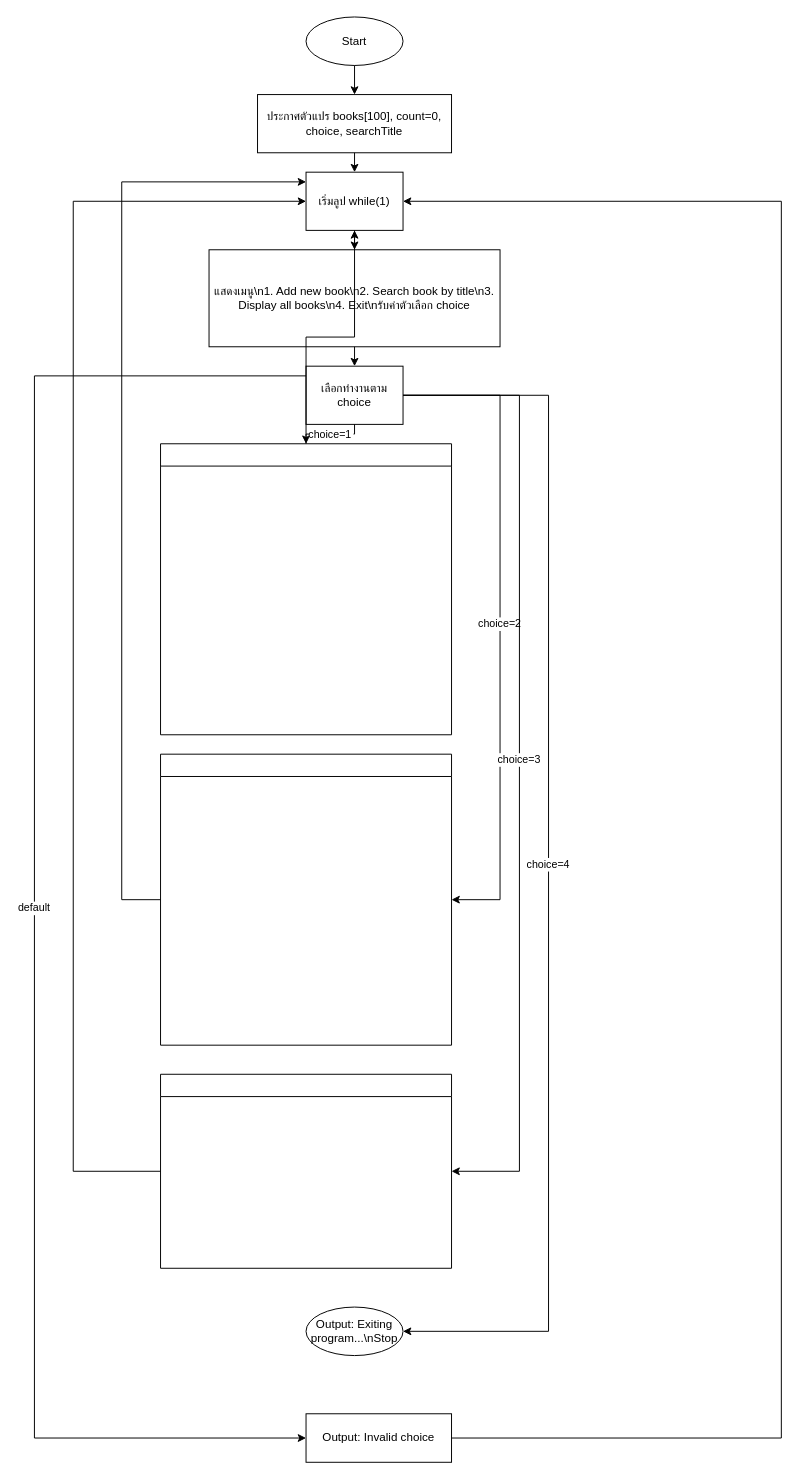
This 806x1479 diagram has some shape labels left out. Each missing label, with the box of its shape:
Function addBook(books, &count): (160, 443, 452, 735)
Function displayBooks(books, count): (160, 1073, 452, 1268)
Input: รับค่า searchTitle\nFunction searchBook(books, count, searchTitle): (160, 753, 452, 1045)
